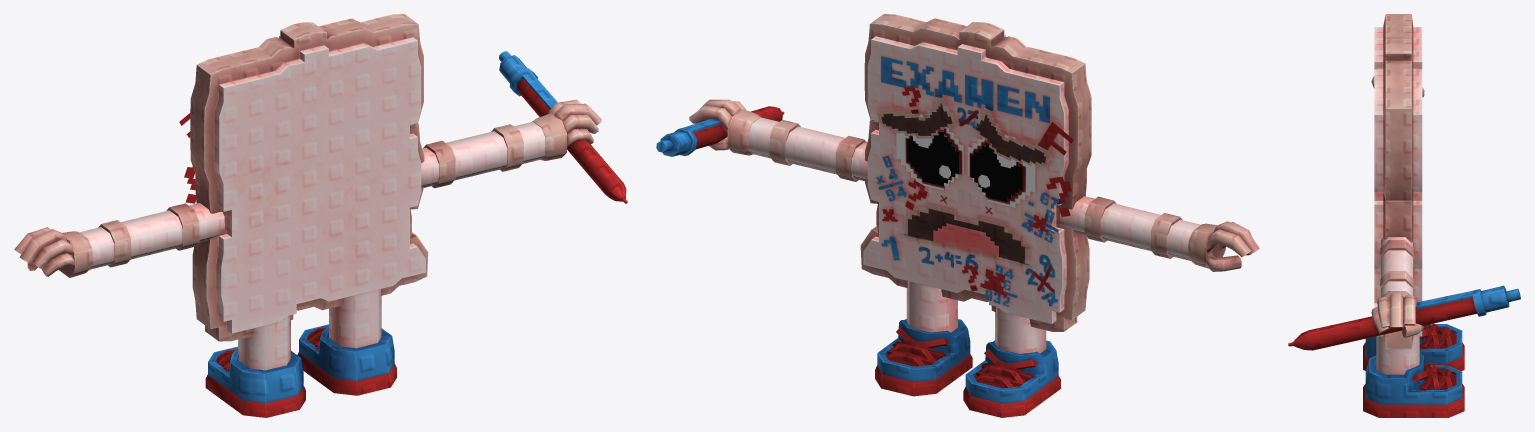
File: Noo My Examen.fbx
3 renders of one model, left to right at view 1: azimuth 30°, elevation 25°; view 2: azimuth 150°, elevation 25°; view 3: azimuth 270°, elevation 25°, orthographic. The views are drawn at different scales.
Parts seen in each view (by area): view 1: Noo My Examen; view 2: Noo My Examen; view 3: Noo My Examen.
Part boxes in pixels (<box>): Noo My Examen: <box>14,14,627,417</box>; Noo My Examen: <box>656,14,1259,417</box>; Noo My Examen: <box>1288,14,1520,417</box>.
Bounding box in the file's own units: 1060 × 633 × 397.
